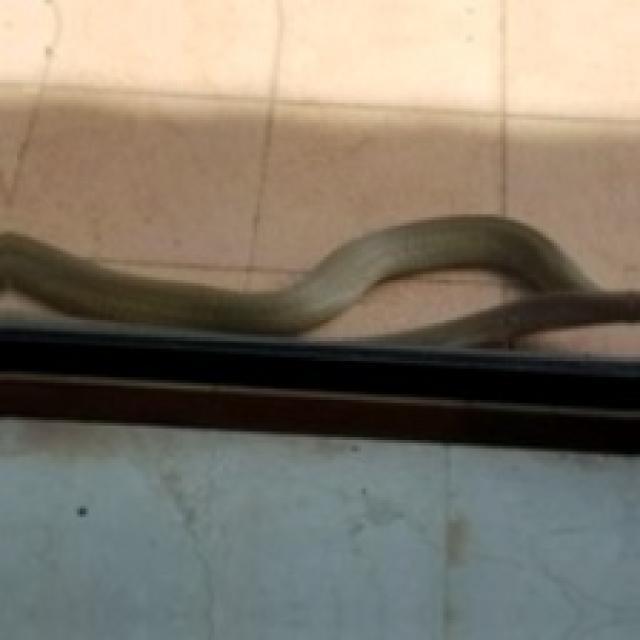king cobra: (0, 214, 637, 346)
